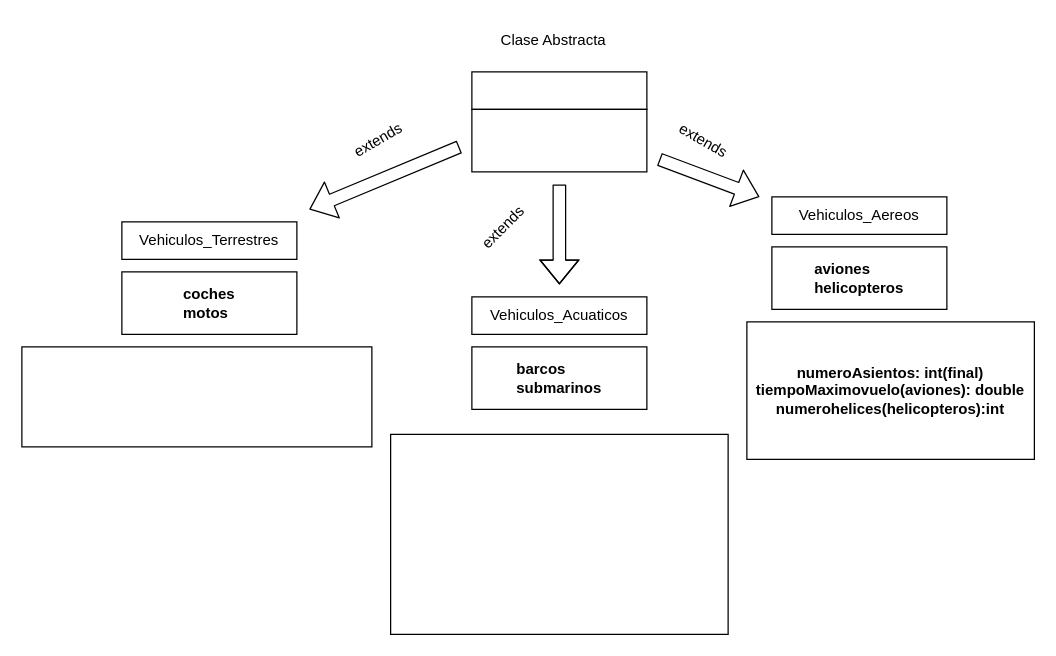
This 1056x656 diagram has some shape labels left out. The centre of each missing label's shape, as x and y in pixels:
"(final) Matricula (String) (final) Modelo(String)" goes at point (559, 140).
"eslora:int(final) tienenMotor(barcos):boolean profundidadMax(submarino):double" goes at point (558, 533).
"numeroRuedas: int(final) aireAcondicionado(coche) boolean color(motos)" goes at point (196, 396).
"Vehiculos" goes at point (559, 90).
